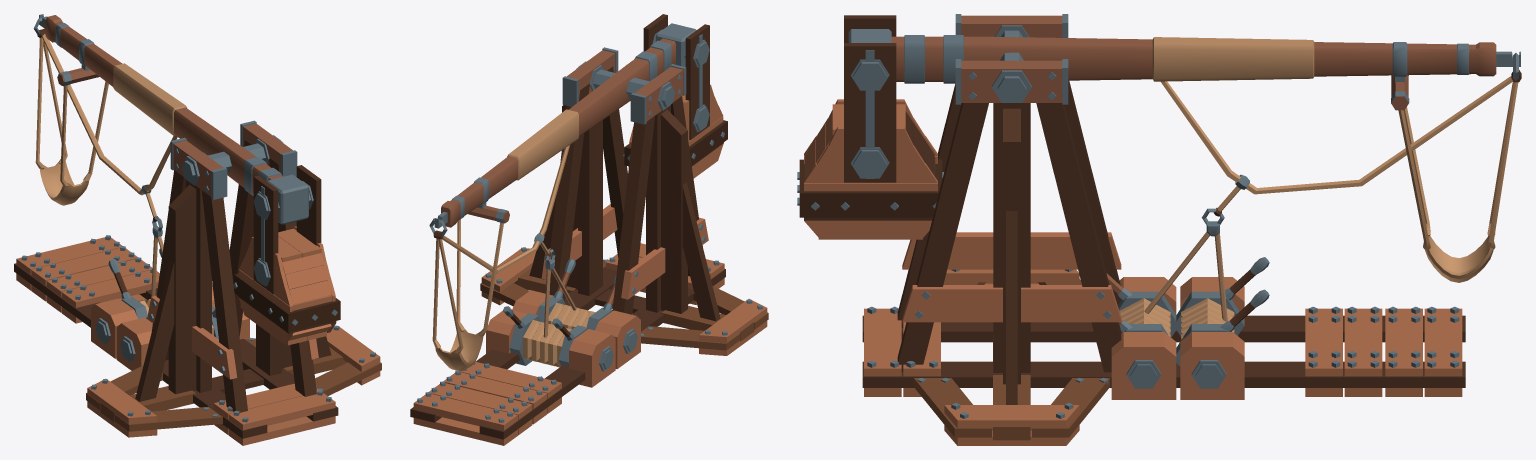
Rendered from Catapult_1.fbx.
The picture shows the model from 3 angles, left to right: view 1: azimuth 30°, elevation 25°; view 2: azimuth 150°, elevation 25°; view 3: azimuth 270°, elevation 25°; orthographic projection. The views are drawn at different scales.
Parts seen in each view (by area): view 1: Catapult_1, Catapult_Thrower, Catapult_Head; view 2: Catapult_1, Catapult_Thrower, Catapult_Head; view 3: Catapult_1, Catapult_Thrower, Catapult_Head.
Boxes of the visible parts, x1,y1,x2,y2 form: Catapult_1: [14, 120, 381, 445]; Catapult_Thrower: [33, 14, 340, 345]; Catapult_Head: [35, 34, 177, 221]; Catapult_1: [410, 47, 768, 445]; Catapult_Thrower: [429, 14, 727, 239]; Catapult_Head: [432, 145, 569, 371]; Catapult_1: [862, 14, 1465, 445]; Catapult_Thrower: [797, 15, 1521, 239]; Catapult_Head: [1161, 75, 1518, 282].
Size of the model in its own units: 322 by 309 by 603.
